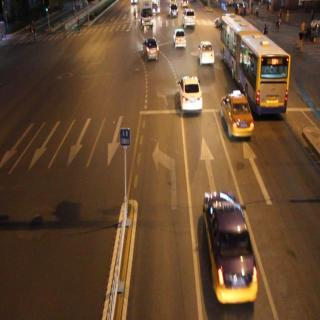BigCar: (220, 19, 289, 114), (139, 0, 153, 27)
Car: (201, 189, 259, 301), (223, 90, 253, 138), (178, 75, 203, 113), (198, 38, 215, 69), (144, 37, 159, 61), (172, 27, 186, 52), (182, 8, 195, 28), (169, 3, 181, 21), (151, 2, 160, 15)
